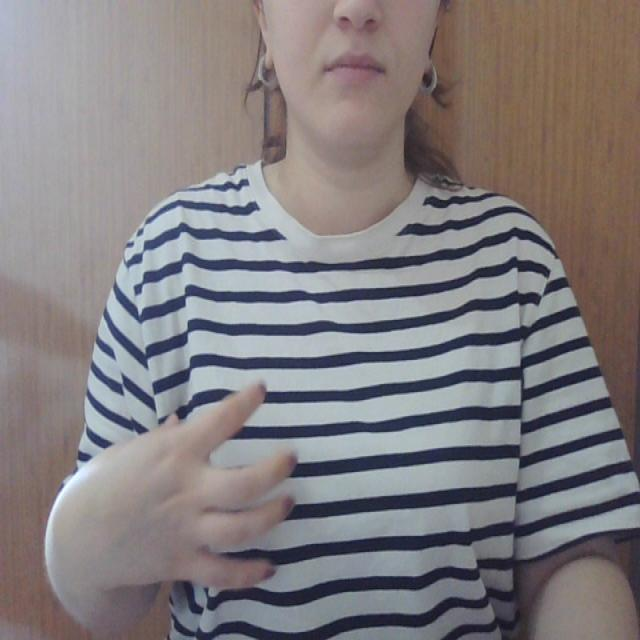Anne: (138, 376, 302, 591)
